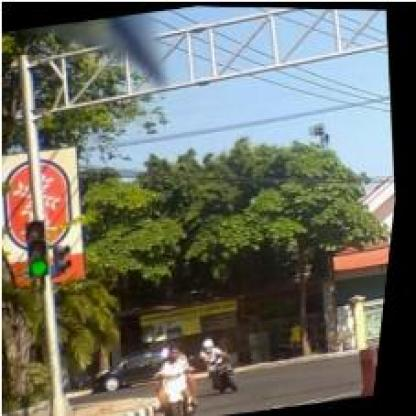green: (24, 218, 57, 280)
